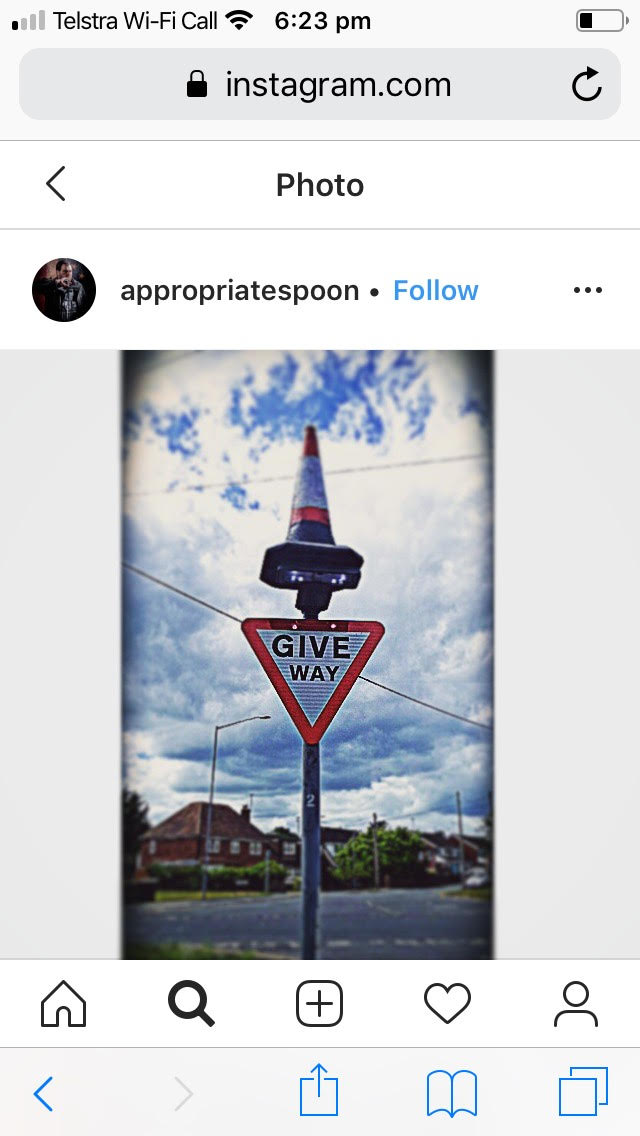giveway: (240, 617, 385, 747), (236, 611, 314, 747), (312, 607, 386, 744), (252, 653, 371, 729), (240, 622, 392, 674)
